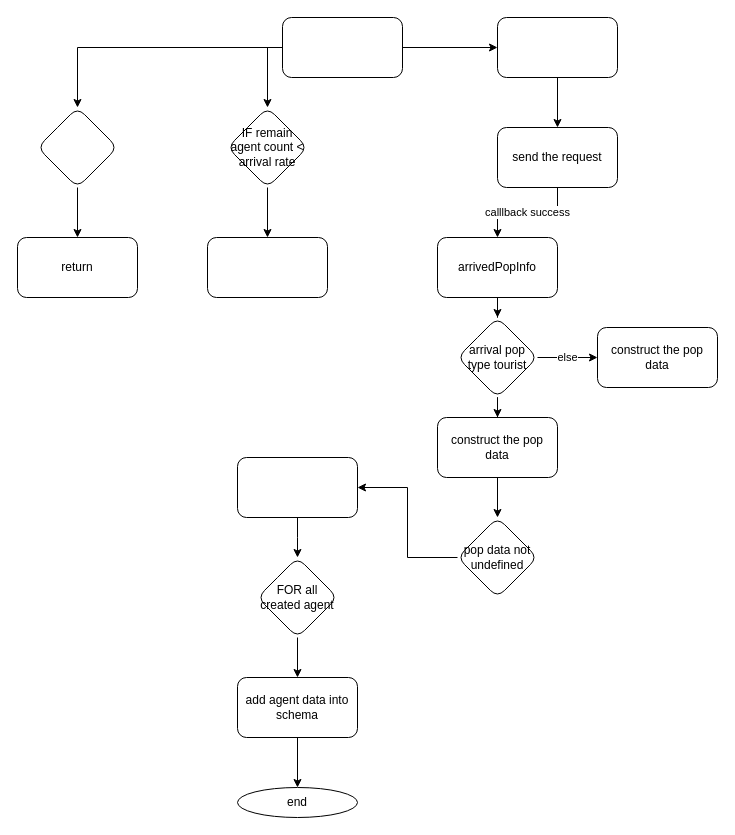
Some shapes in this 735 by 835 pixel diagram are drawn without their labels. The shapes that lost their labels are listed below. From the top down, each one's centre as x and y in pixels, then its label:
At (342,47): "start".
At (557,47): "construct the arrival pop request object".
At (77,147): "IF current rvo agent >= rvo agent limit".
At (267,267): "set the arrival rate".
At (297,487): "call agent creation".
